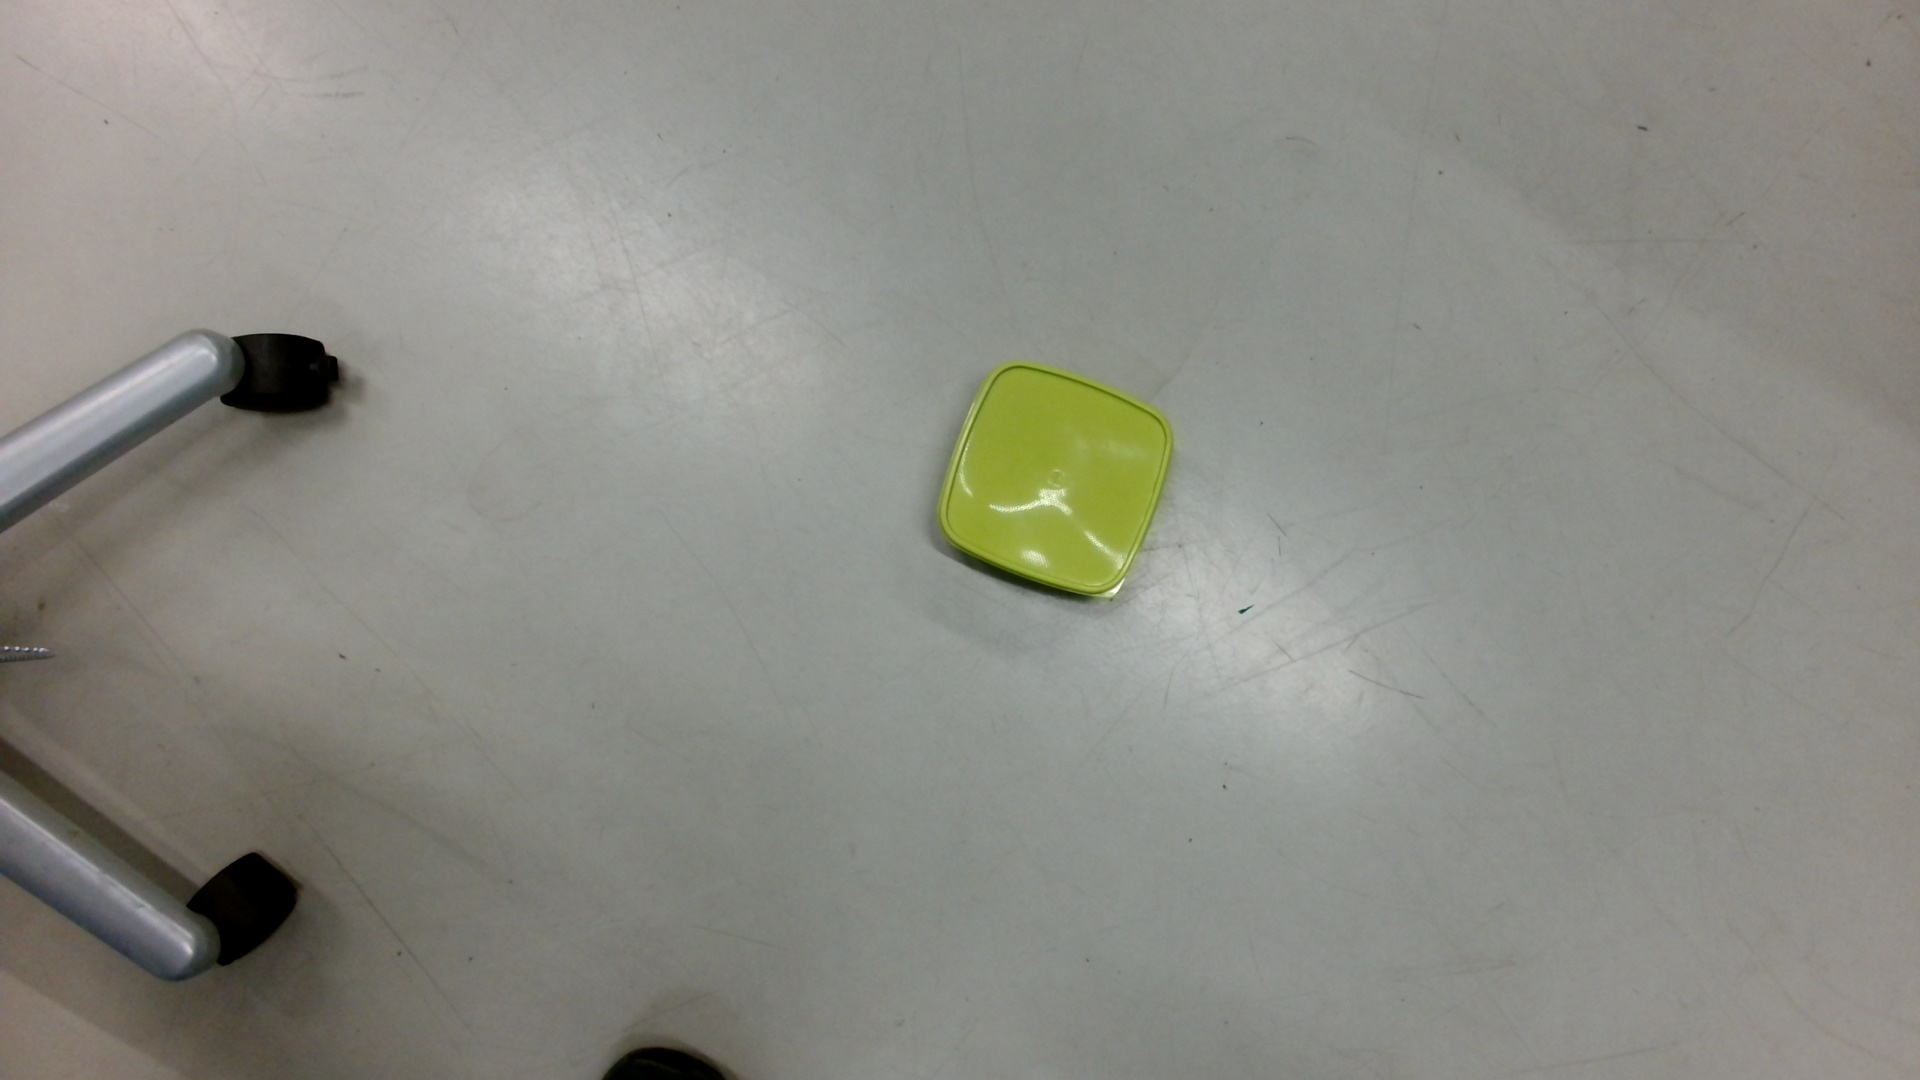Box: (928, 357, 1180, 611)
